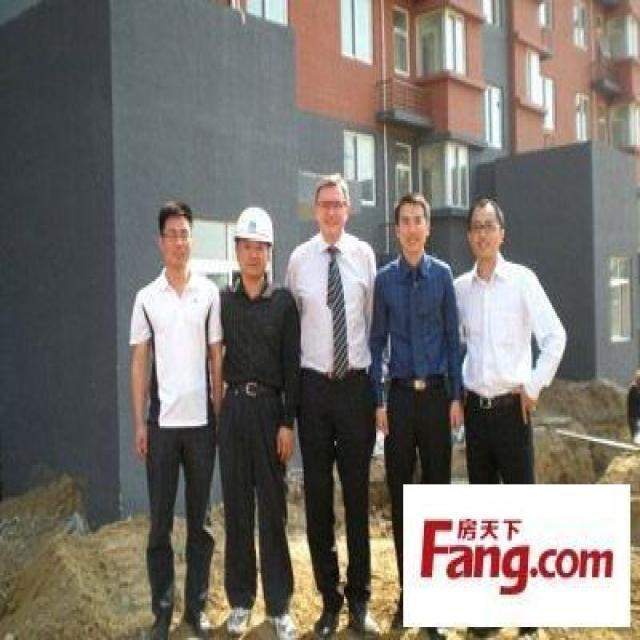hat: (232, 201, 276, 282)
no hat: (466, 190, 506, 268), (155, 198, 195, 274), (394, 190, 434, 264), (312, 170, 352, 244)
